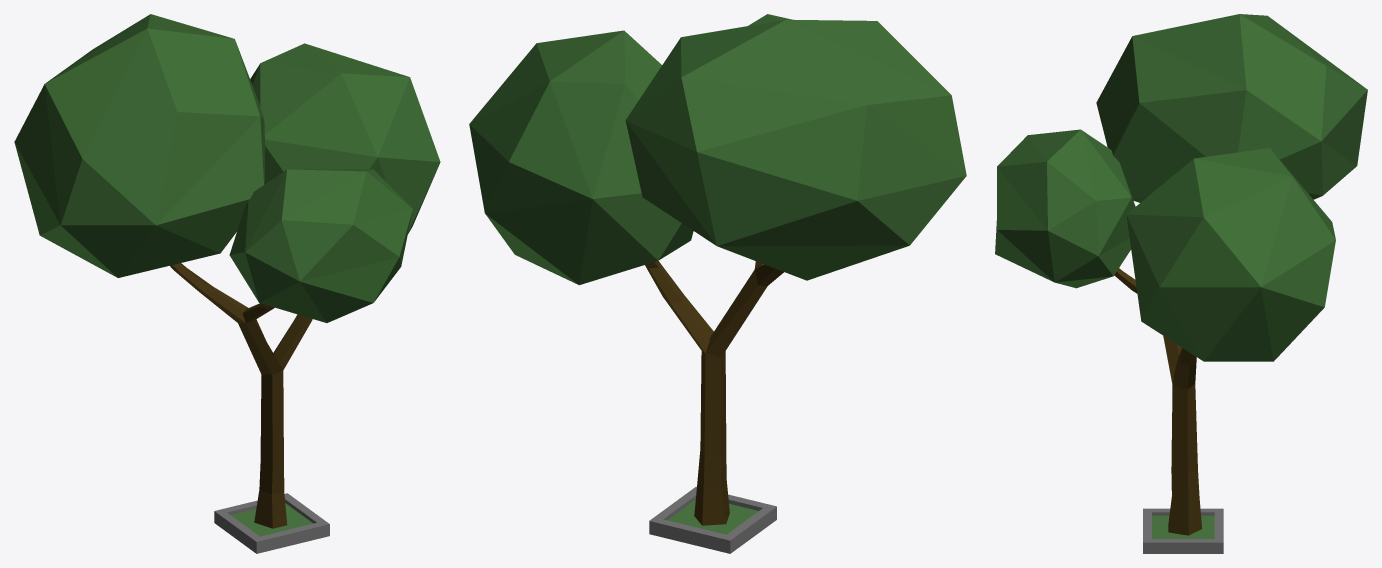
The model's file is Trees-01.fbx.
The picture shows the model from 3 angles, left to right: view 1: azimuth 30°, elevation 25°; view 2: azimuth 150°, elevation 25°; view 3: azimuth 270°, elevation 25°; orthographic projection. The views are drawn at different scales.
Parts seen in each view (by area): view 1: Trees-01; view 2: Trees-01; view 3: Trees-01.
Part boxes in pixels (x1,y1,x2,y2): Trees-01: (14,14,440,553); Trees-01: (469,14,966,553); Trees-01: (995,14,1367,553).
Size of the model in its own units: 6.98 by 8.39 by 5.92.
